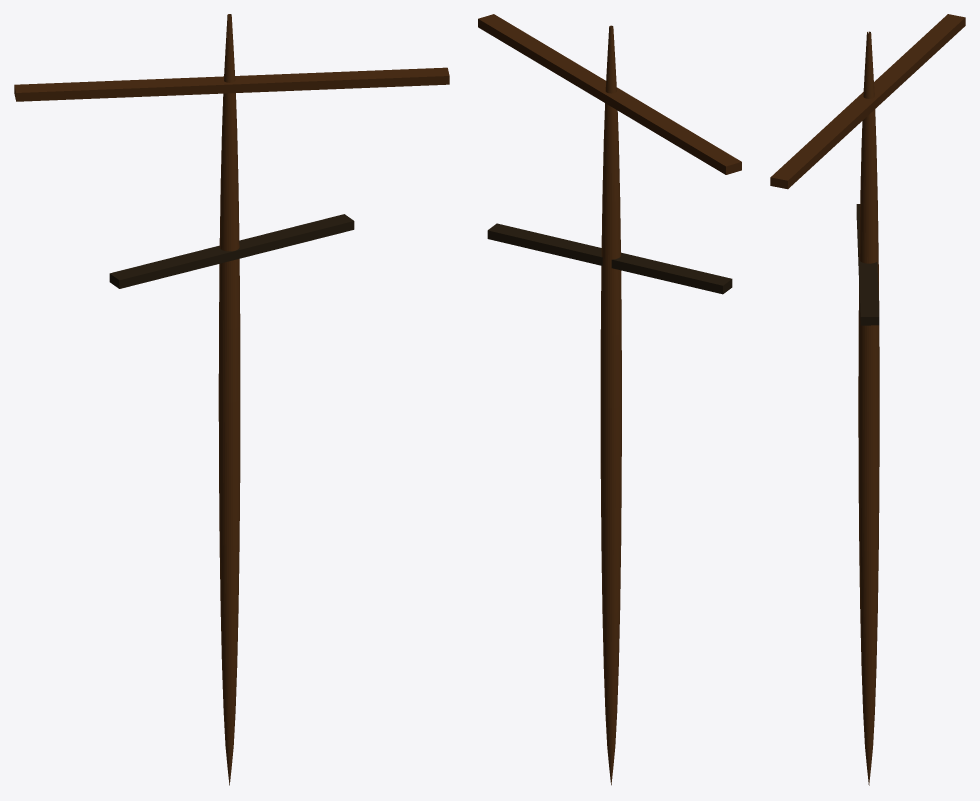
Rendered from Wooden Pole.fbx.
3 views of the same model, side by side, from view 1: azimuth 30°, elevation 25°; view 2: azimuth 150°, elevation 25°; view 3: azimuth 270°, elevation 25° (orthographic). The views are drawn at different scales.
Parts seen in each view (by area): view 1: Sphere, Cube.001, Cube; view 2: Sphere, Cube.001, Cube; view 3: Sphere, Cube.001, Cube.
Boxes of the visible parts, x1,y1,x2,y2 form: Sphere: [218, 14, 240, 785]; Cube.001: [14, 67, 449, 101]; Cube: [109, 214, 354, 288]; Sphere: [600, 25, 621, 785]; Cube.001: [478, 14, 741, 174]; Cube: [487, 223, 732, 294]; Sphere: [858, 31, 879, 785]; Cube.001: [770, 14, 965, 189]; Cube: [856, 204, 879, 325].
Size of the model in its own units: 3713 by 7832 by 1835.
